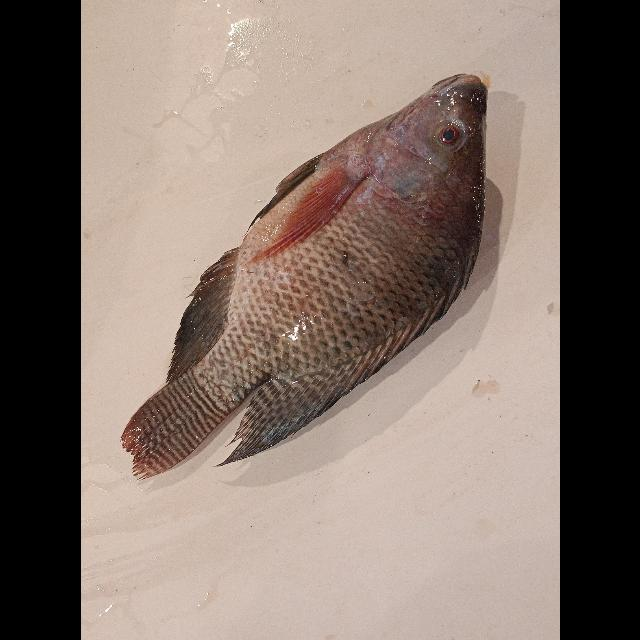Tilapia: (122, 72, 494, 478)
